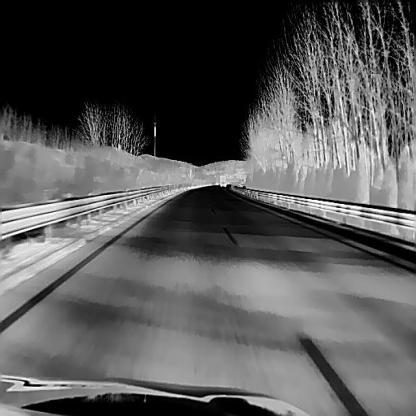car: (219, 174, 226, 186)
